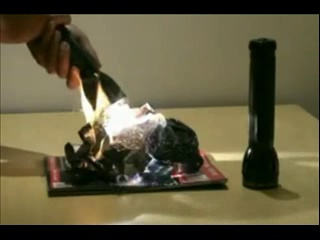fire: (77, 71, 110, 160)
